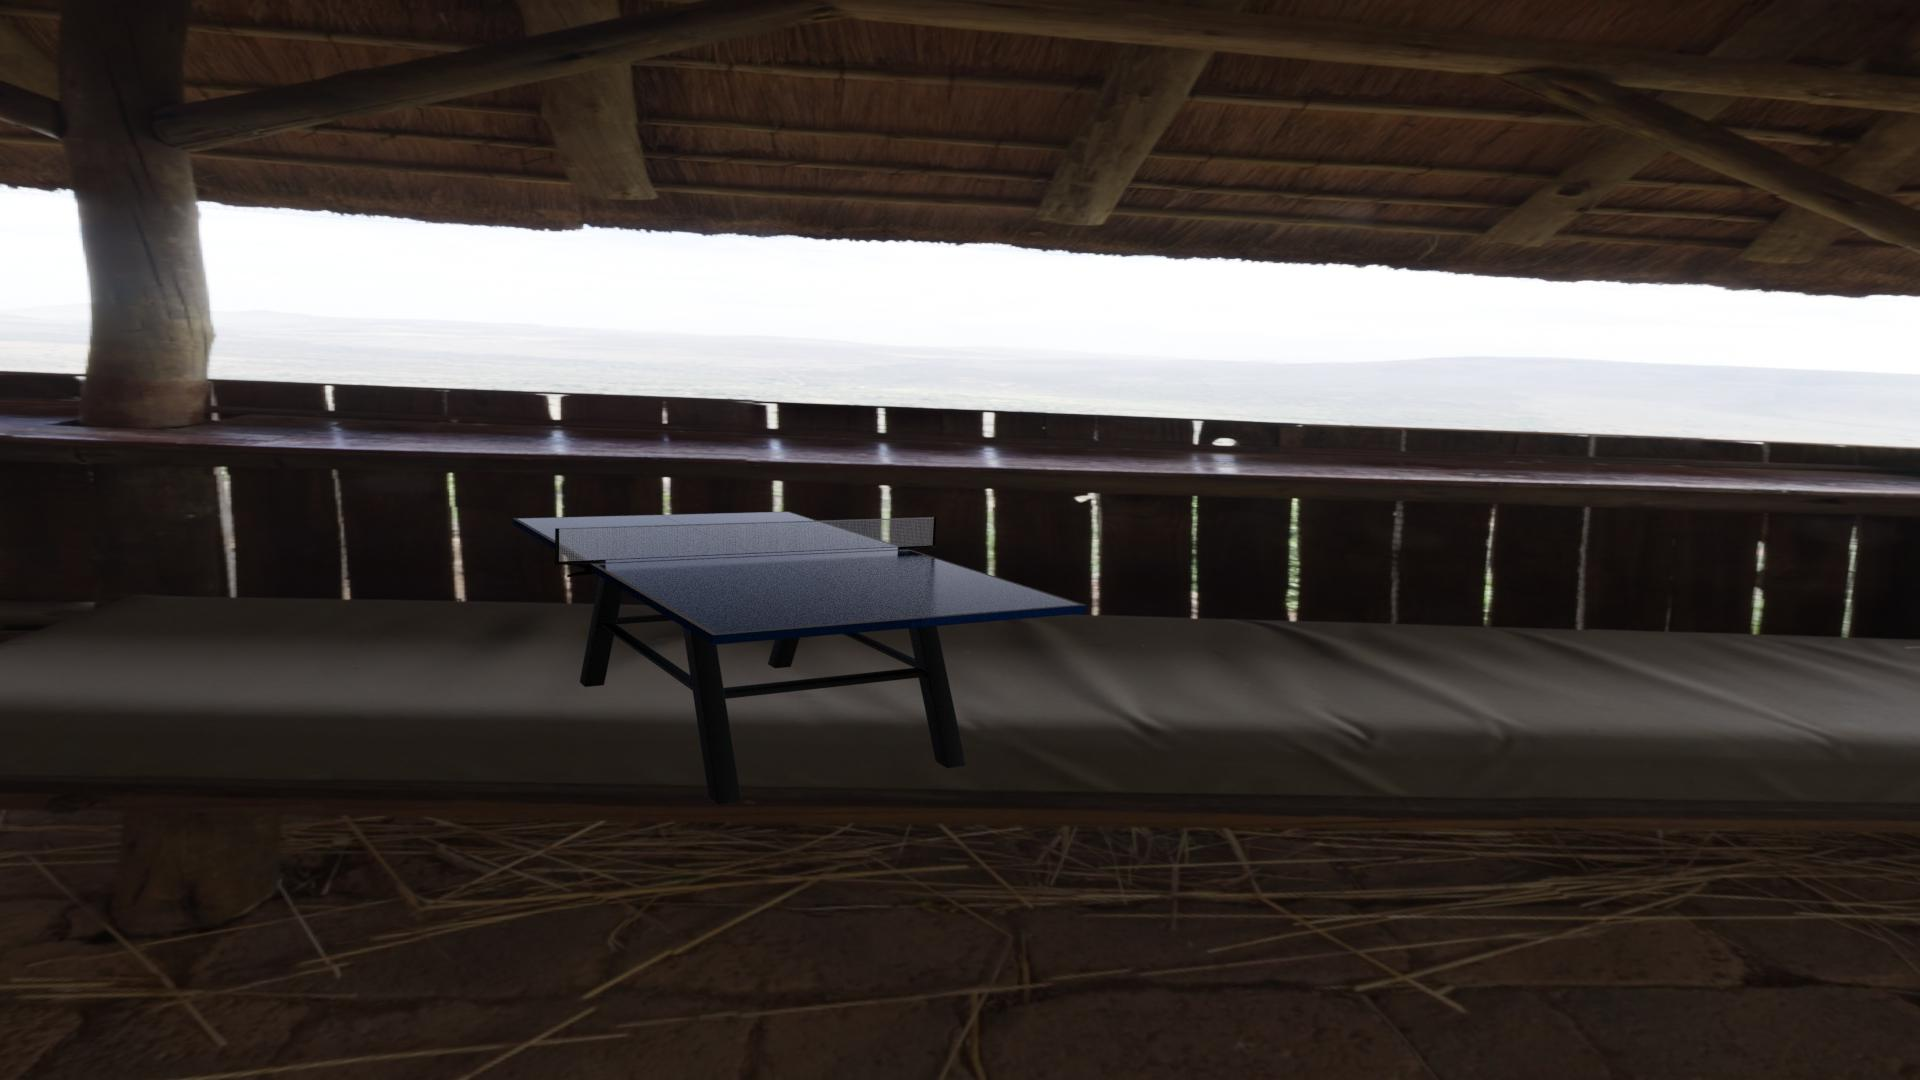table: (517, 512, 1080, 633)
